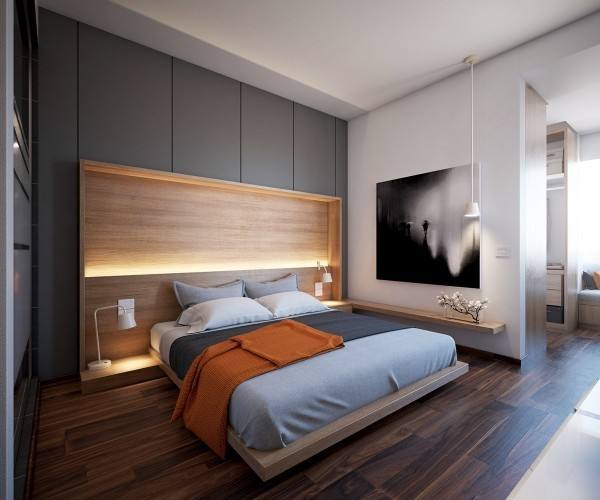床: (148, 307, 462, 471)
枕头: (166, 274, 328, 331)
灯: (461, 55, 484, 223), (86, 300, 137, 371)
